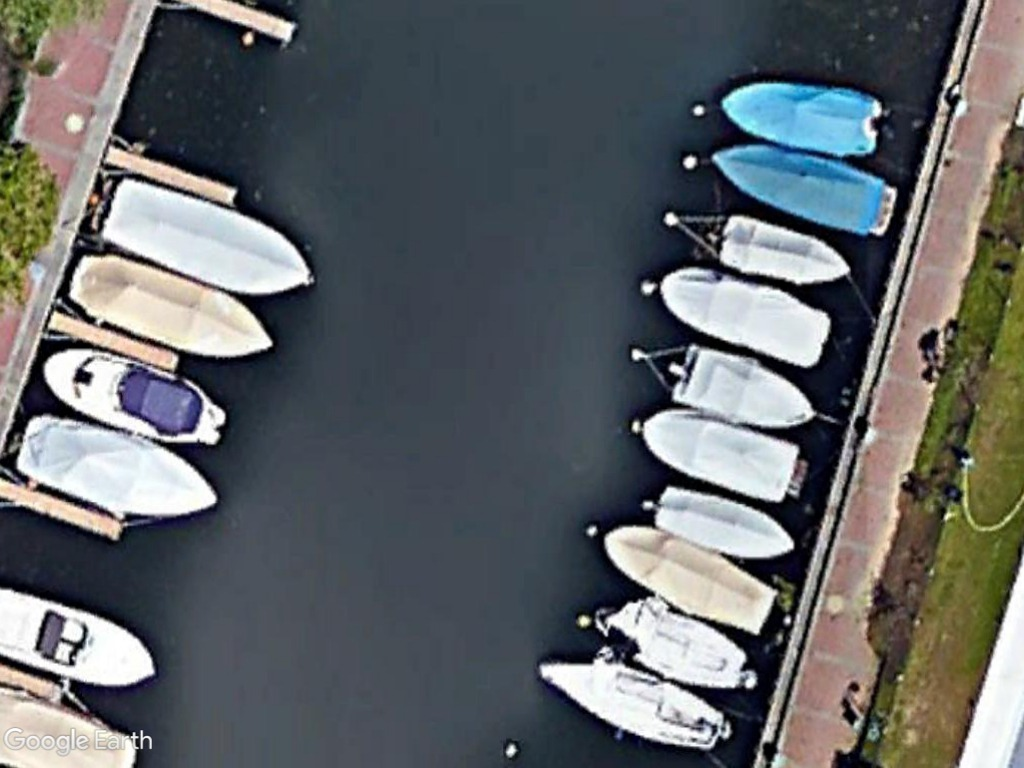boat: (95, 172, 319, 297), (55, 247, 282, 366), (8, 411, 224, 520), (529, 646, 731, 754), (599, 520, 781, 639), (702, 134, 905, 240), (658, 256, 835, 370), (33, 347, 229, 447), (635, 404, 803, 507), (599, 589, 761, 686), (665, 339, 823, 428), (712, 76, 889, 155), (651, 481, 800, 562), (713, 210, 858, 292)
